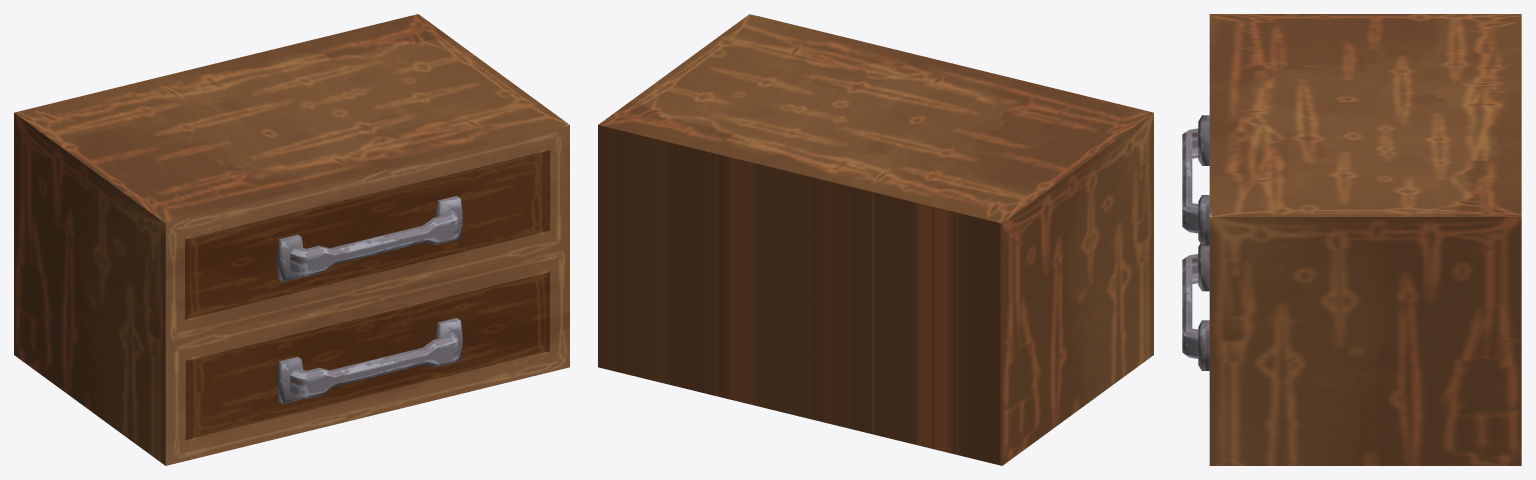
The model's file is workbench-drawers.glb.
3 views of the same model, side by side, from view 1: azimuth 30°, elevation 25°; view 2: azimuth 150°, elevation 25°; view 3: azimuth 270°, elevation 25° (orthographic). The views are drawn at different scales.
Parts seen in each view (by area): view 1: Workbench_Drawers; view 2: Workbench_Drawers; view 3: Workbench_Drawers.
Part boxes in pixels (box(x1,y1,x2,y2)): Workbench_Drawers: box(14, 14, 569, 465); Workbench_Drawers: box(598, 14, 1153, 465); Workbench_Drawers: box(1182, 14, 1521, 465).
Size of the model in its own units: 0.4231 by 0.2423 by 0.299.
2 materials, 2 textured.
